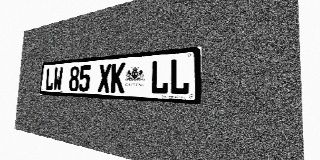5: (79, 65, 91, 92)
8: (68, 66, 80, 91)
K: (110, 62, 125, 93)
L: (169, 58, 190, 95), (150, 59, 169, 95), (45, 68, 54, 91)
W: (53, 67, 63, 91)
X: (97, 63, 111, 93)
